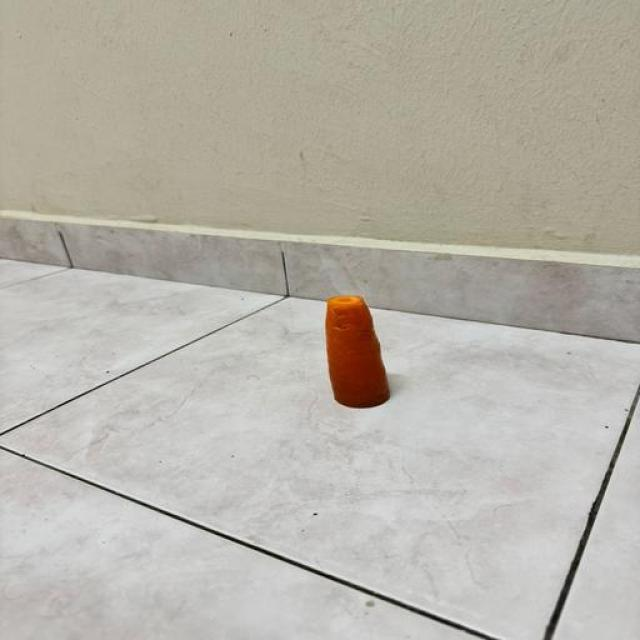organic: (325, 297, 389, 407)
